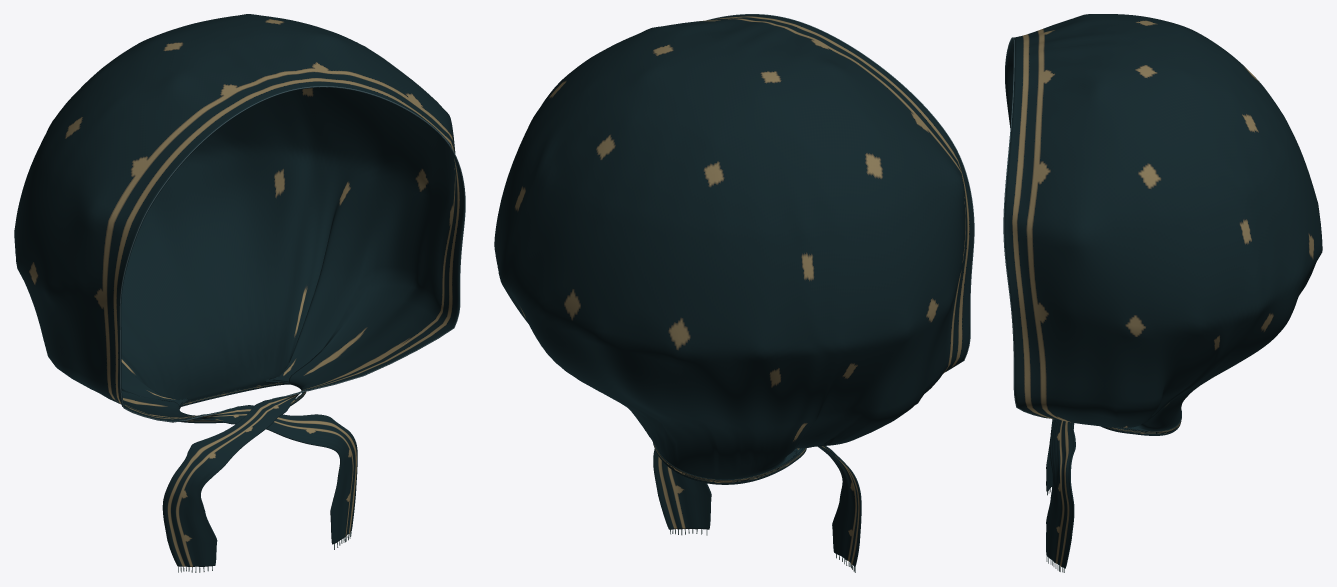
File: Masculine-locs-buttonup-pashmina249-headgear.glb
3 views of the same model, side by side, from view 1: azimuth 30°, elevation 25°; view 2: azimuth 150°, elevation 25°; view 3: azimuth 270°, elevation 25° (orthographic). The views are drawn at different scales.
Visible parts, largest first — view 1: 226 headgear / Headwear / continuous woven pashmina239, 226 headgear / Headwear / face edge239; view 2: 226 headgear / Headwear / continuous woven pashmina239, 226 headgear / Headwear / face edge239; view 3: 226 headgear / Headwear / continuous woven pashmina239, 226 headgear / Headwear / face edge239.
Boxes of the visible parts, x1=… form: 226 headgear / Headwear / continuous woven pashmina239: x1=14, y1=14, x2=464, y2=566; 226 headgear / Headwear / face edge239: x1=119, y1=86, x2=465, y2=422; 226 headgear / Headwear / continuous woven pashmina239: x1=494, y1=14, x2=973, y2=566; 226 headgear / Headwear / face edge239: x1=707, y1=14, x2=974, y2=371; 226 headgear / Headwear / continuous woven pashmina239: x1=1004, y1=14, x2=1322, y2=568; 226 headgear / Headwear / face edge239: x1=1003, y1=37, x2=1049, y2=418.
Size of the model in its own units: 1.15 by 1.4 by 0.8232.
Materials: 3 (1 with a texture image).
